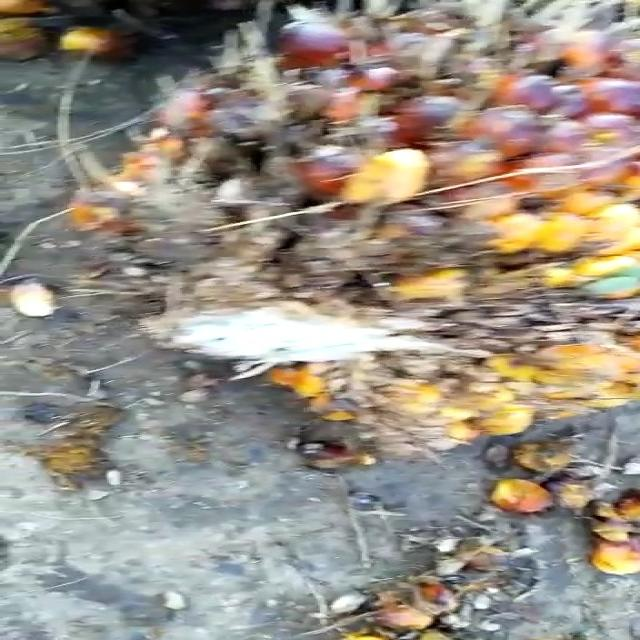palm oil: (139, 9, 640, 439)
